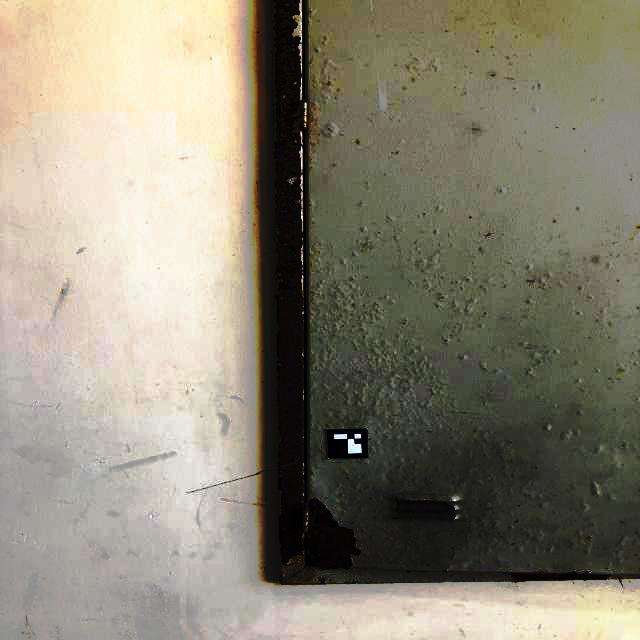Corrosion: (272, 0, 314, 585), (308, 499, 362, 570), (393, 497, 456, 520), (502, 570, 611, 582), (314, 578, 326, 584), (344, 581, 356, 584), (405, 570, 410, 574), (414, 571, 429, 572), (442, 570, 447, 572)
